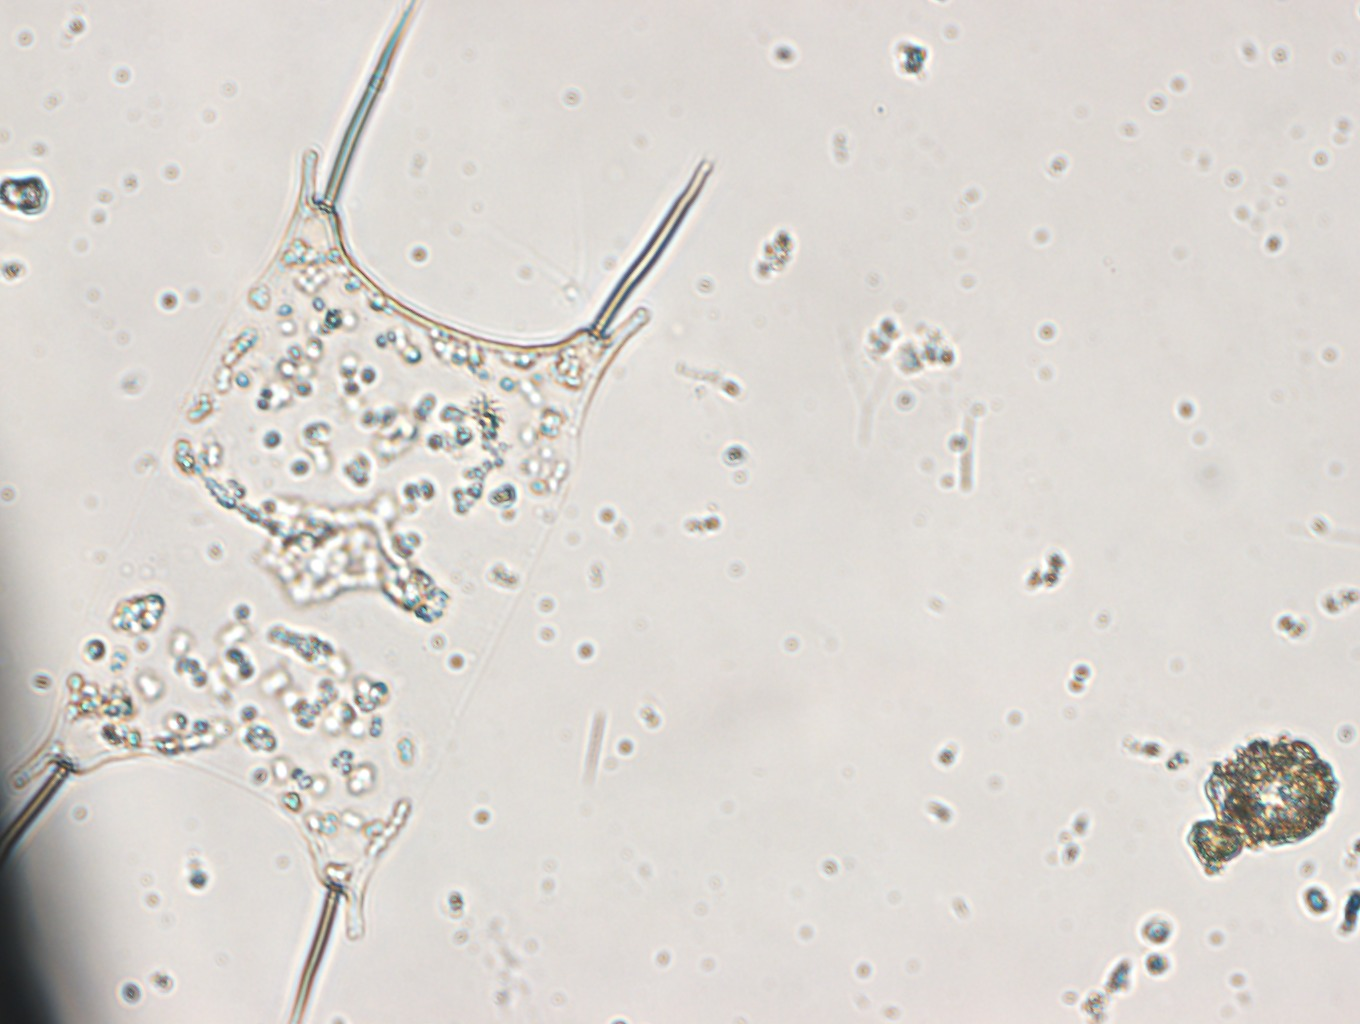biddulphia: (1, 1, 713, 1024)
